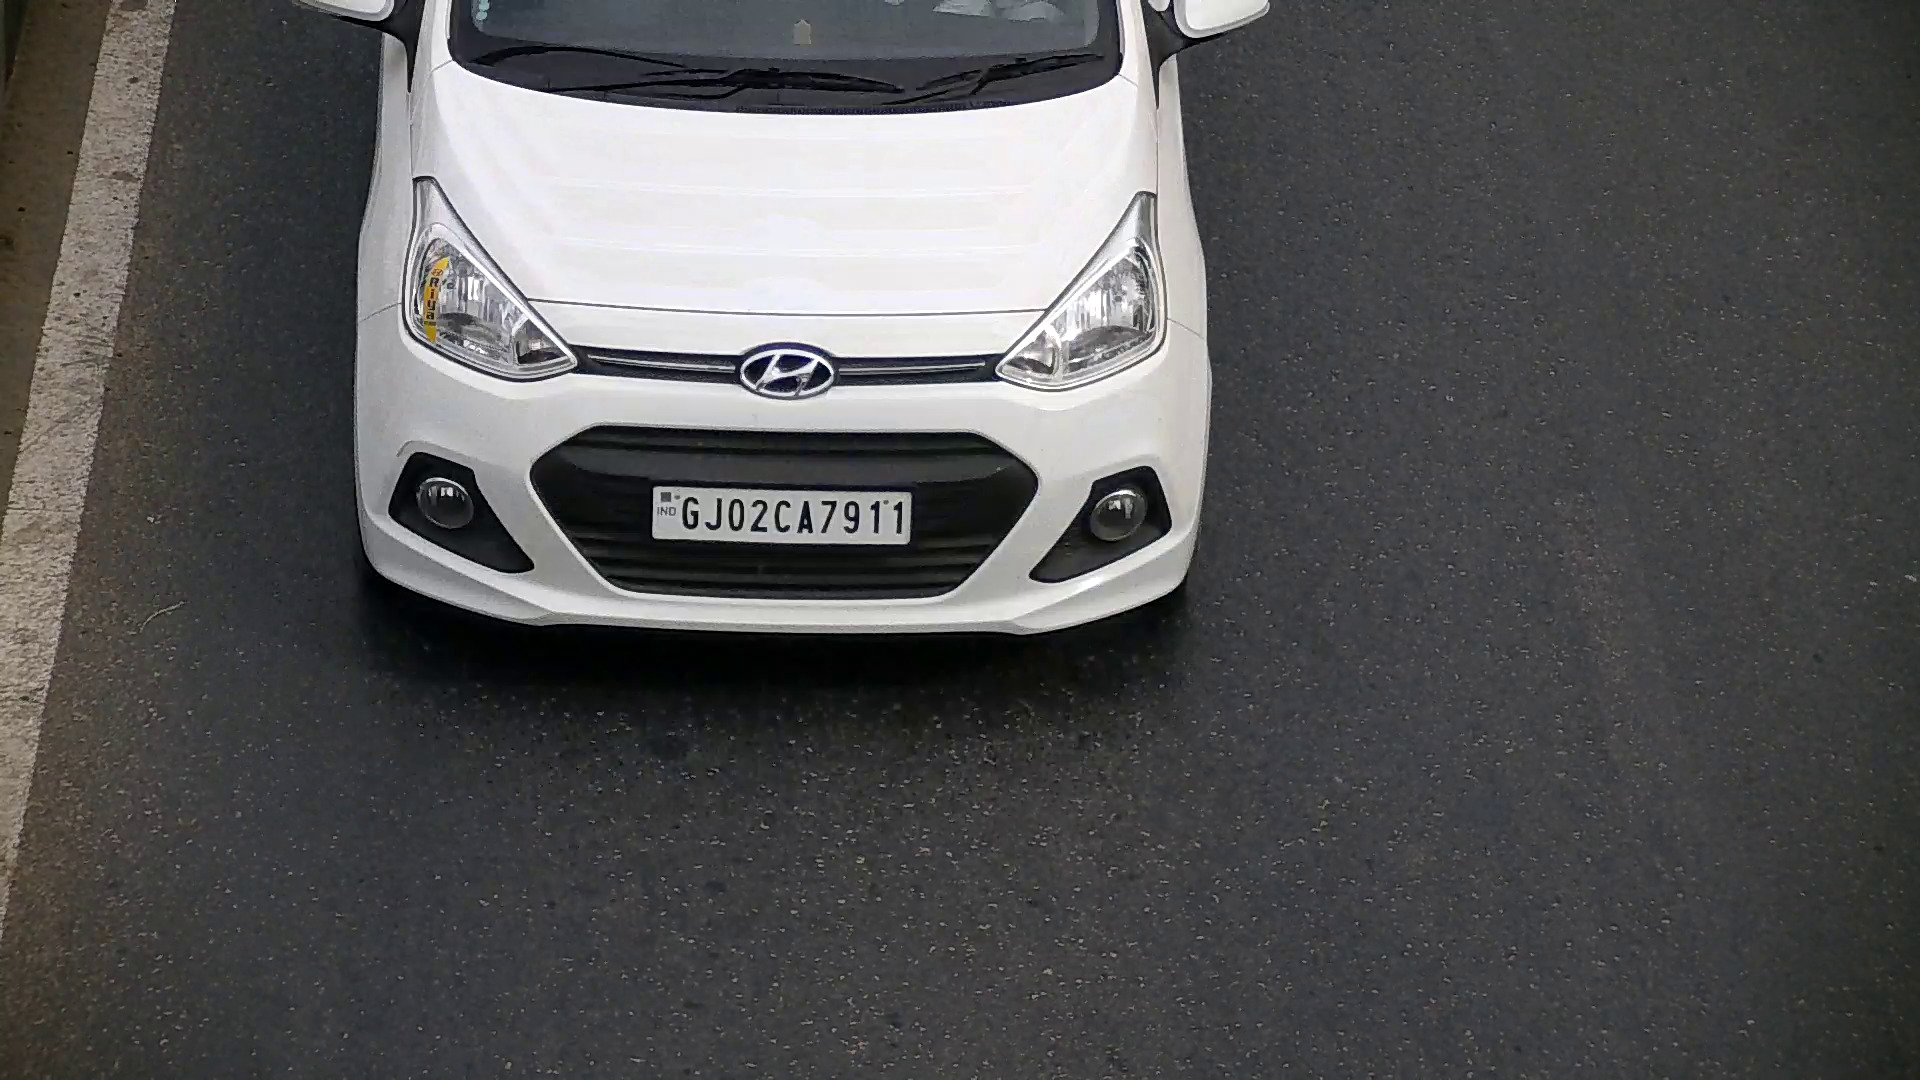numberplate: (646, 480, 914, 553)
